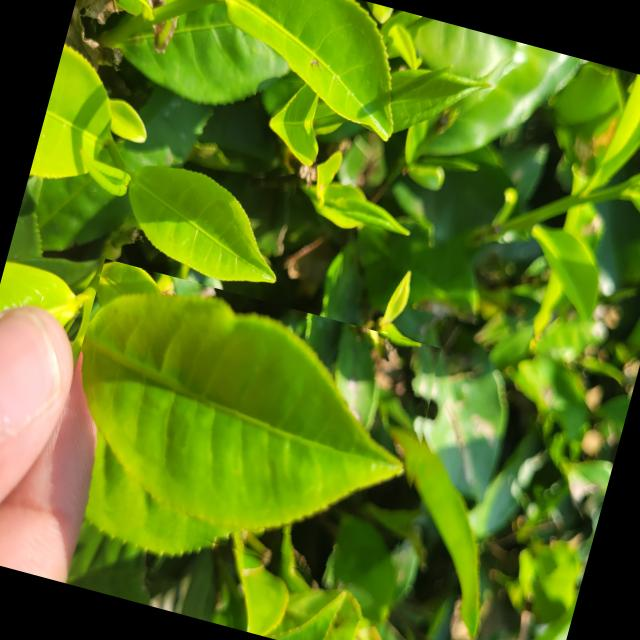Catagory A(1-2 days): (39, 258, 452, 594)
